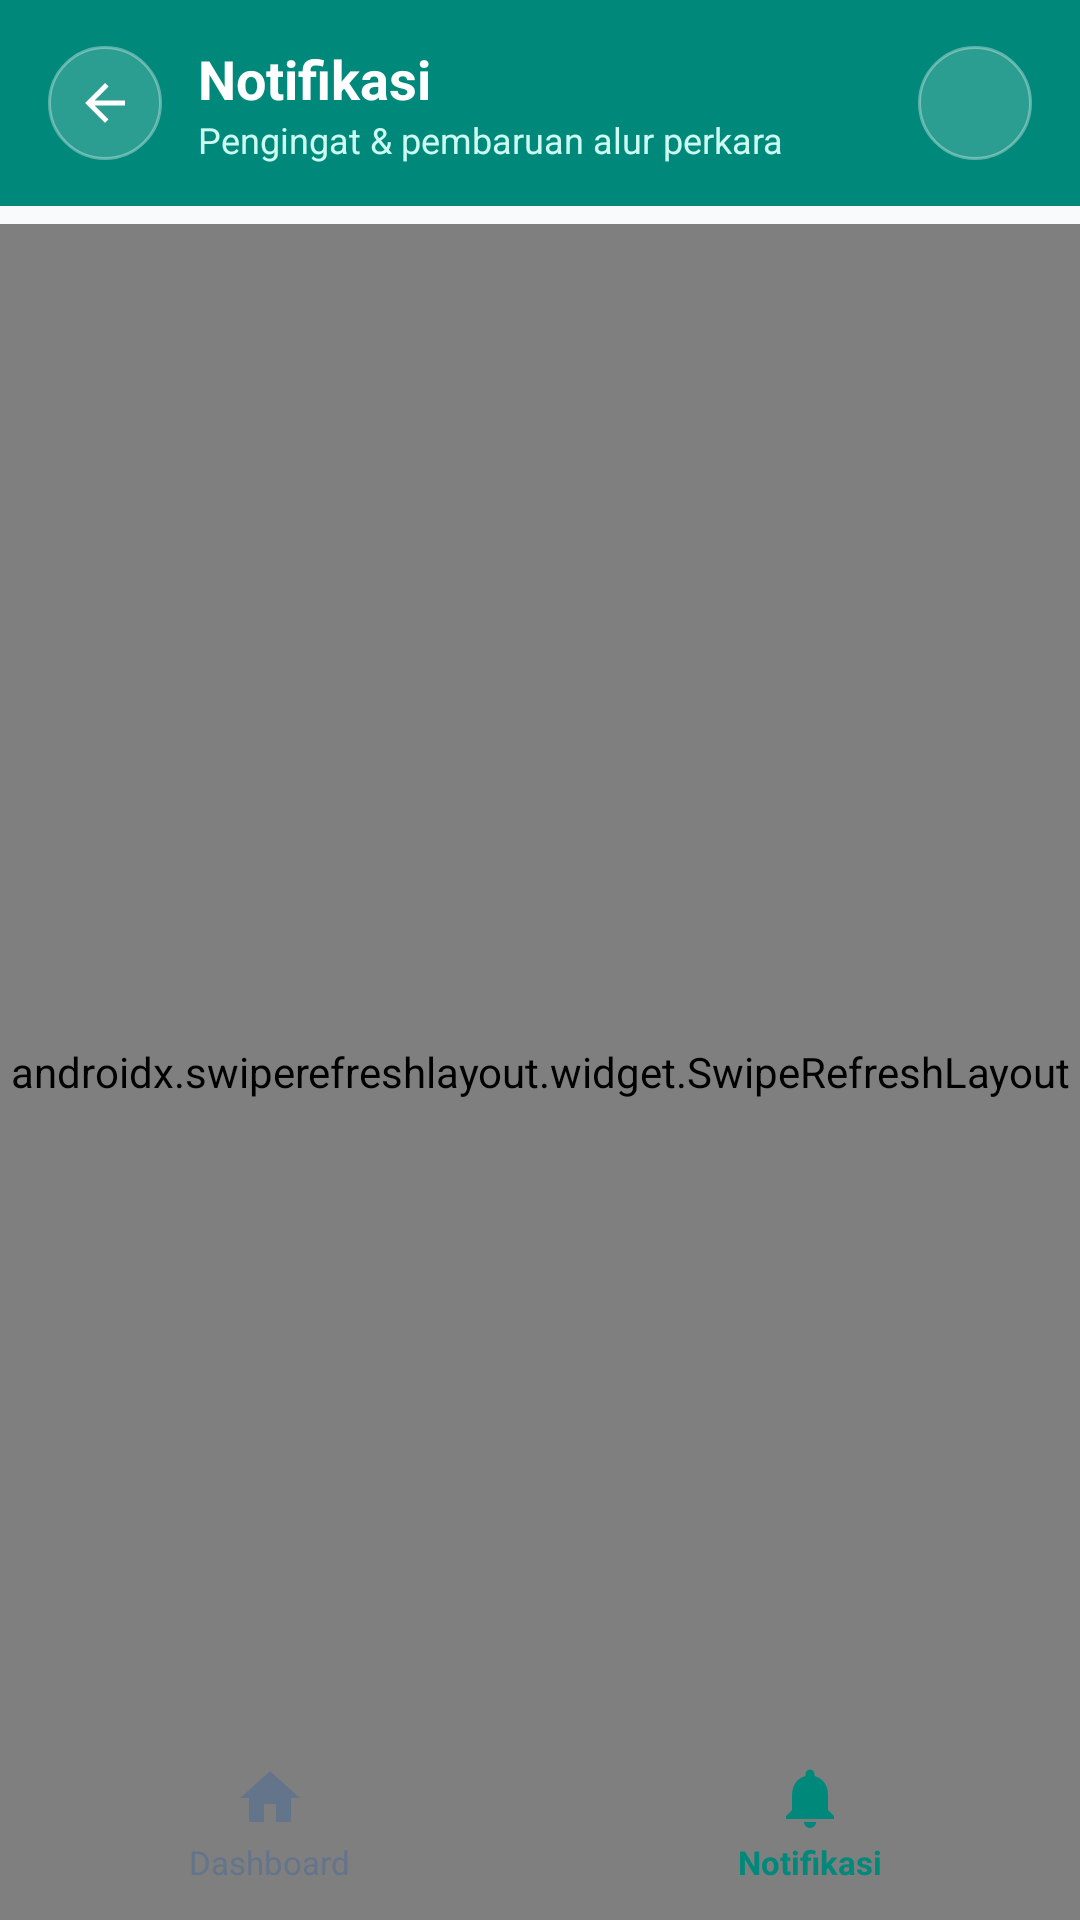

Locate icon controls on the screen. Image size 1080px×1920px, boxes as [left=x1, top=y1, right=x2, bottom=y2].
home: [left=241, top=1772, right=299, bottom=1822]
Kembali: [left=85, top=83, right=125, bottom=123]
